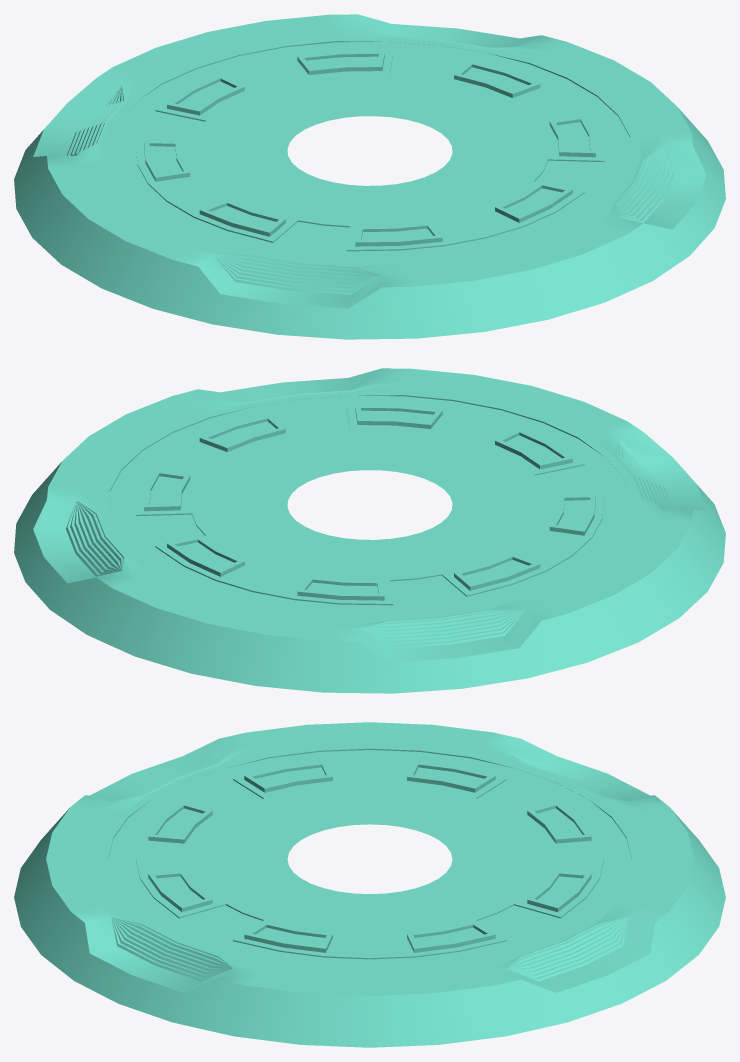
The model's file is Capitoly_Platform.fbx.
The picture shows the model from 3 angles, top to bottom: view 1: azimuth 30°, elevation 25°; view 2: azimuth 150°, elevation 25°; view 3: azimuth 270°, elevation 25°; orthographic projection.
Visible parts, largest first — view 1: Capitoly_Platform; view 2: Capitoly_Platform; view 3: Capitoly_Platform.
Part boxes in pixels (x1,y1,x2,y2): Capitoly_Platform: [14, 14, 725, 339]; Capitoly_Platform: [14, 368, 725, 693]; Capitoly_Platform: [14, 722, 725, 1047].
Size of the model in its own units: 497 by 32.43 by 497.
